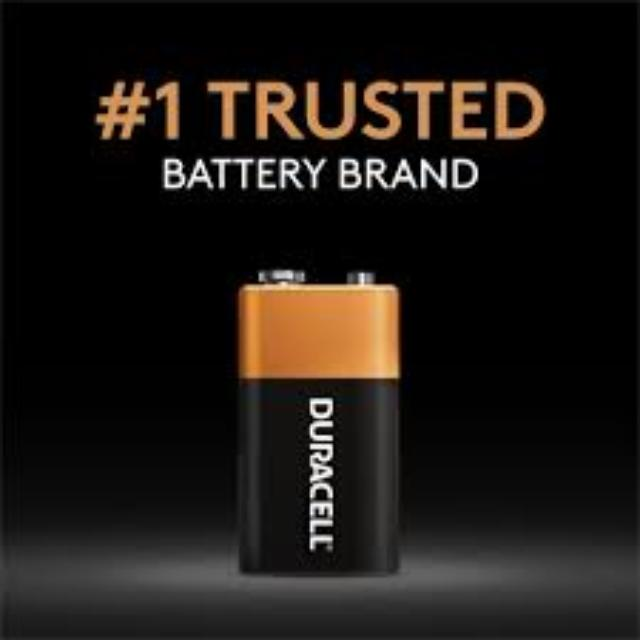Battery: (239, 270, 401, 577)
